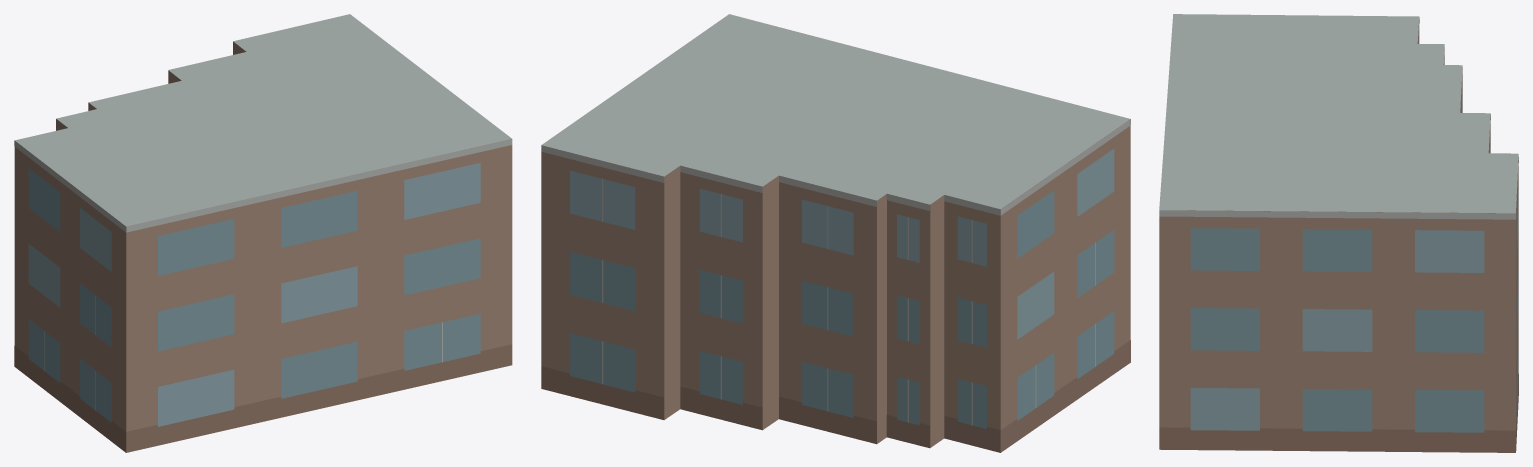
File: survey-upis-32832434.glb
The picture shows the model from 3 angles, left to right: view 1: azimuth 30°, elevation 25°; view 2: azimuth 150°, elevation 25°; view 3: azimuth 270°, elevation 25°; orthographic projection. The views are drawn at different scales.
Parts seen in each view (by area): view 1: survey-upis-32832434.tmp; view 2: survey-upis-32832434.tmp; view 3: survey-upis-32832434.tmp.
Part boxes in pixels (x1,y1,x2,y2): survey-upis-32832434.tmp: (14, 14, 512, 452); survey-upis-32832434.tmp: (541, 14, 1130, 452); survey-upis-32832434.tmp: (1159, 14, 1518, 452).
Bounding box in the file's own units: 16.33 × 9.15 × 12.46.
